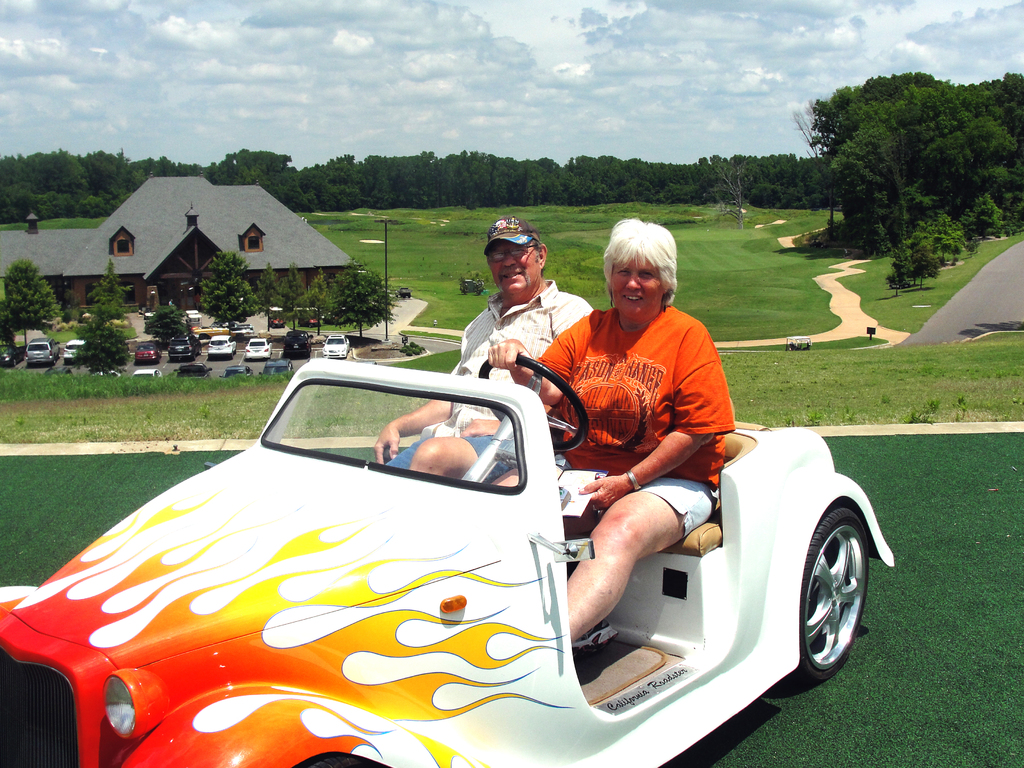Car: (28, 350, 824, 750)
